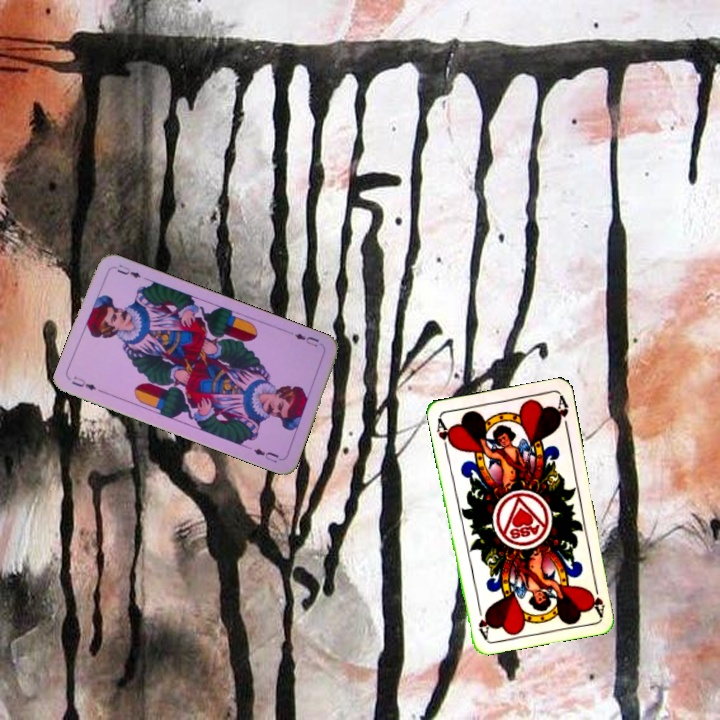EU: (287, 328, 322, 349), (68, 372, 99, 393)
HA: (433, 414, 456, 454), (585, 577, 607, 618)
